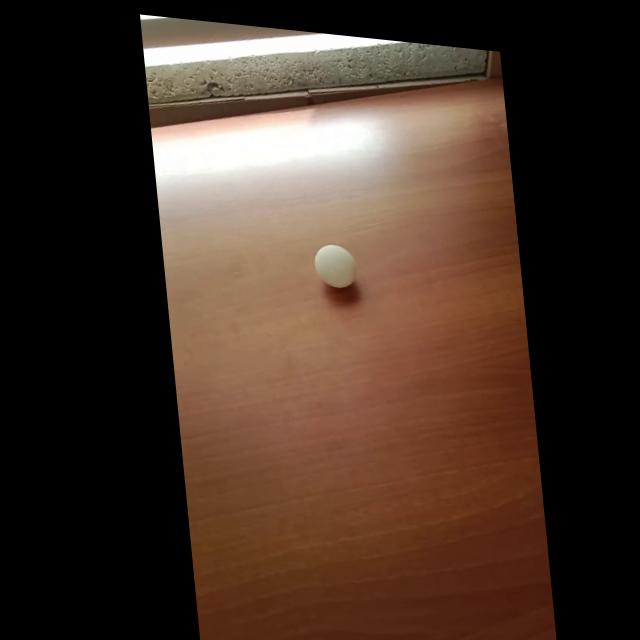white ball: (311, 242, 358, 291)
